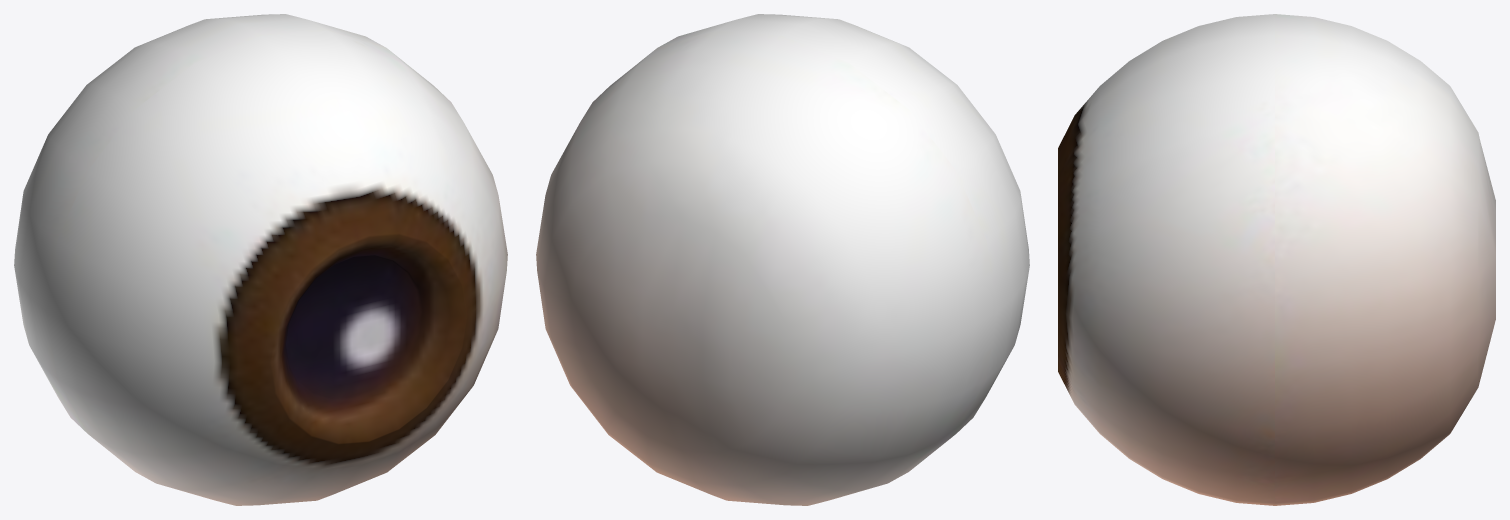
Rendered from bianselong_eye.fbx.
3 views of the same model, side by side, from view 1: azimuth 30°, elevation 25°; view 2: azimuth 150°, elevation 25°; view 3: azimuth 270°, elevation 25° (orthographic).
Visible parts, largest first — view 1: eye; view 2: eye; view 3: eye.
Part boxes in pixels (<box>): eye: <box>14,14,507,505</box>; eye: <box>536,14,1029,505</box>; eye: <box>1058,14,1495,505</box>.
Size of the model in its own units: 0.0725 by 0.0725 by 0.0641.
